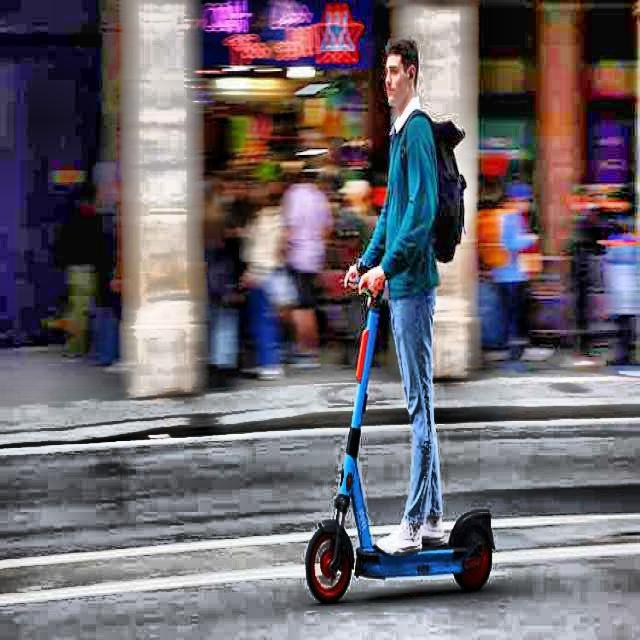bare_head: (370, 46, 440, 118)
human: (359, 31, 462, 555)
kickboard: (290, 513, 533, 606)
